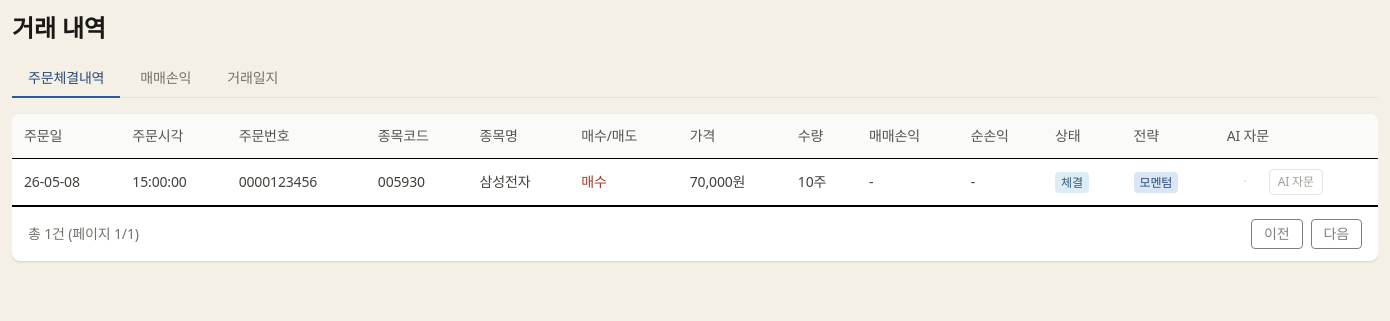
Test: cycle413 보완 2차 N3 — 세후/세전 토글·빈 결과 페이지 표시 › N3b: 결과가 0건이면 「1 / 0」 대신 「1 / 1」 로 보인다
Click the button with test id "history-tab-journal": coordinates (253, 79) [211, 60, 294, 98]
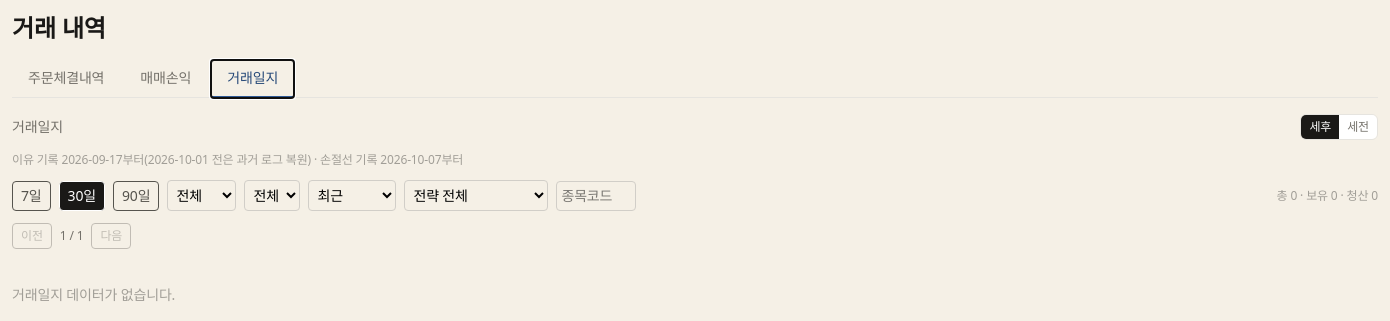
Expected: the text "거래일지 데이터가 없습니다." is shown, [12, 285, 175, 304]
Expected: the text with test id "journal-page-info" reads "1 / 1", [60, 228, 84, 244]
